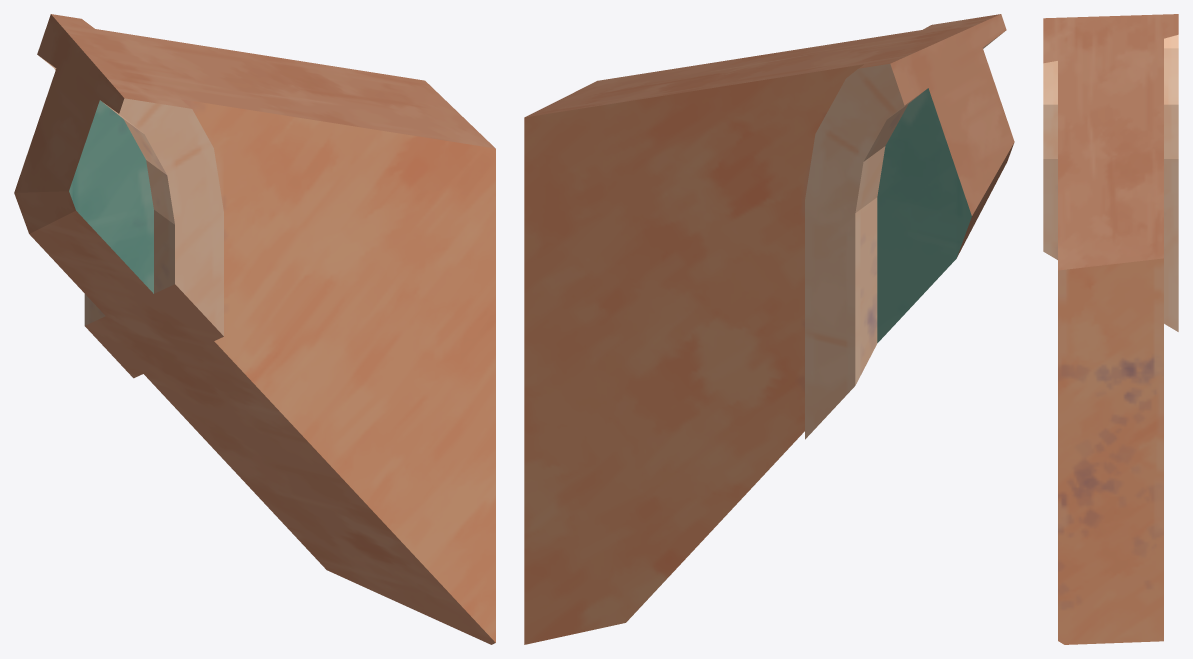
File: wall2_upper_shutter_s03.fbx
3 views of the same model, side by side, from view 1: azimuth 30°, elevation 25°; view 2: azimuth 150°, elevation 25°; view 3: azimuth 270°, elevation 25° (orthographic). The views are drawn at different scales.
Parts seen in each view (by area): view 1: wall2_upper_shutter_s03; view 2: wall2_upper_shutter_s03; view 3: wall2_upper_shutter_s03.
Boxes of the visible parts, x1,y1,x2,y2 form: wall2_upper_shutter_s03: [14, 14, 495, 644]; wall2_upper_shutter_s03: [524, 14, 1014, 644]; wall2_upper_shutter_s03: [1043, 14, 1178, 644].
Bounding box in the file's own units: 3.45 × 5.18 × 1.28.
